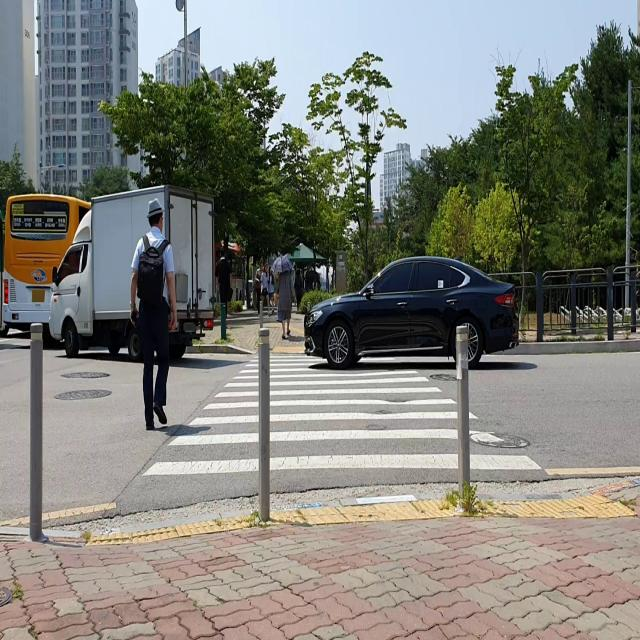횡단보도: (140, 350, 544, 480)
